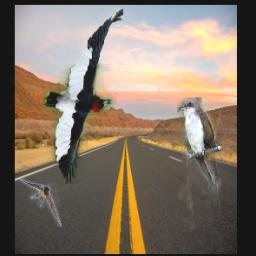Cuckoo: (178, 98, 222, 230)
Swallow: (20, 178, 62, 227)
Woodpecker: (43, 9, 124, 185)
